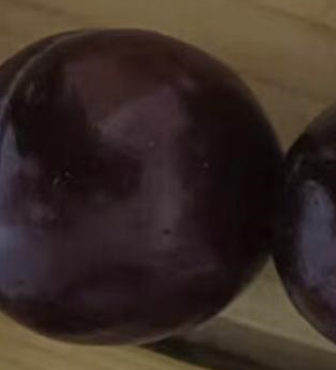plum_A: (1, 29, 288, 345)
